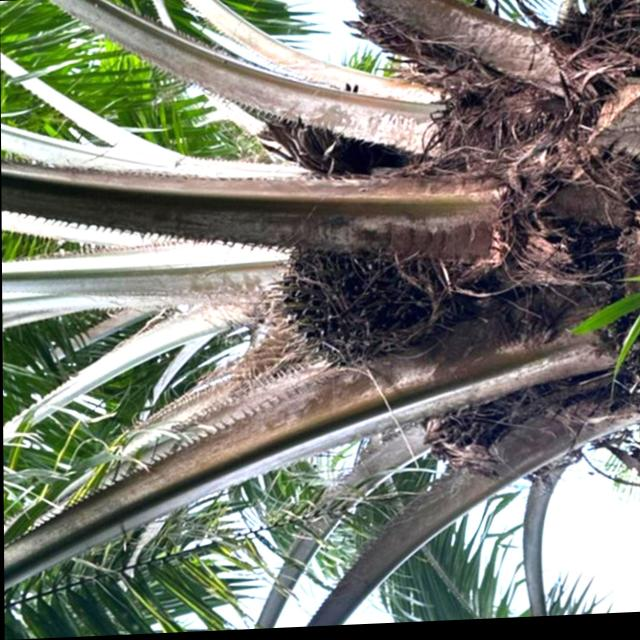unripe: (263, 226, 470, 385)
